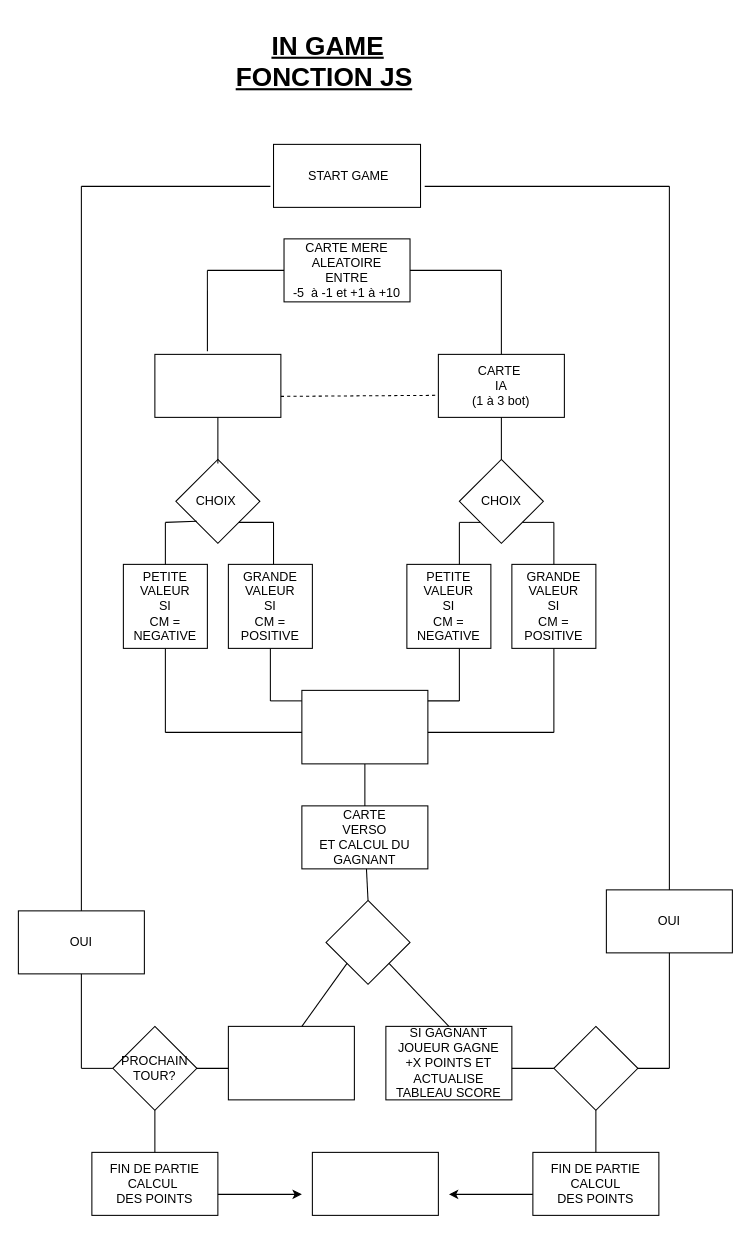
Image size: 751x1234. Some labels were removed from this diagram. The box of each missing label's shape, as (x1, y1, x2, y2) in pixels:
CALCUL GAGNANT: (325, 899, 410, 984)
CARTE JOUEUR (1 à 4 joueurs): (154, 353, 281, 417)
CARTE RECTO JUSQU'A JOUEURS TERMINENT LEUR TOUR: (301, 689, 428, 764)
PROCHAIN TOUR ?: (553, 1025, 638, 1110)
SI ÉGALITÉ CARTE MERE + CARTE MERE DU PROCHAIN TOUR: (227, 1025, 354, 1100)
TABLEAU DES SCORES: (311, 1151, 438, 1215)
